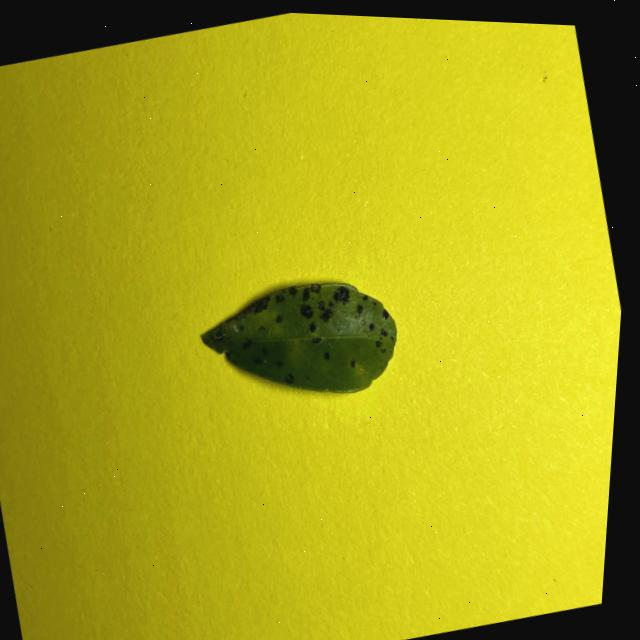sooty_mold: (201, 281, 396, 392)
